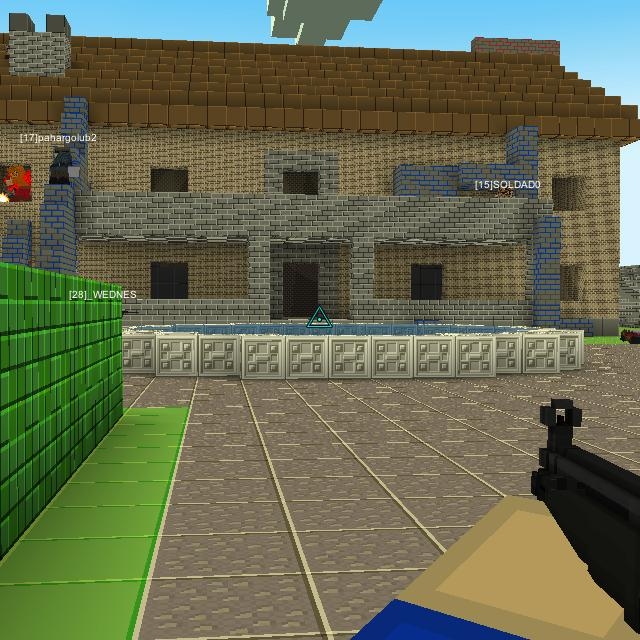enemy: (4, 164, 32, 202)
